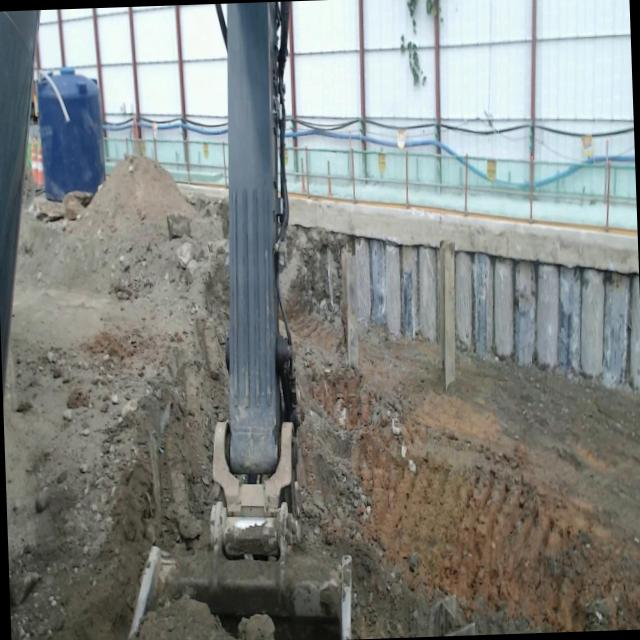white-sand: (285, 291, 640, 639), (3, 156, 228, 640), (130, 596, 275, 640)
